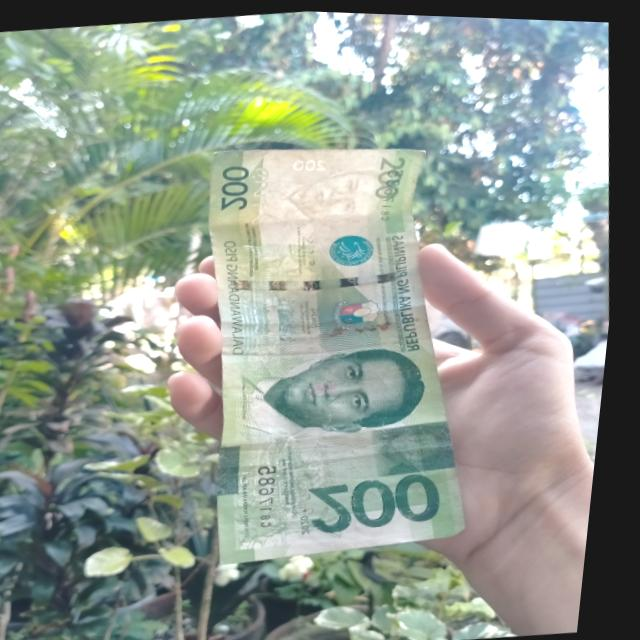concealed_value: (370, 409, 473, 479)
security_thread: (224, 255, 424, 303)
see_through_mark: (243, 158, 285, 225)
value: (300, 458, 463, 544)
value_watermark: (285, 150, 335, 176)
watermark: (262, 159, 402, 240)
